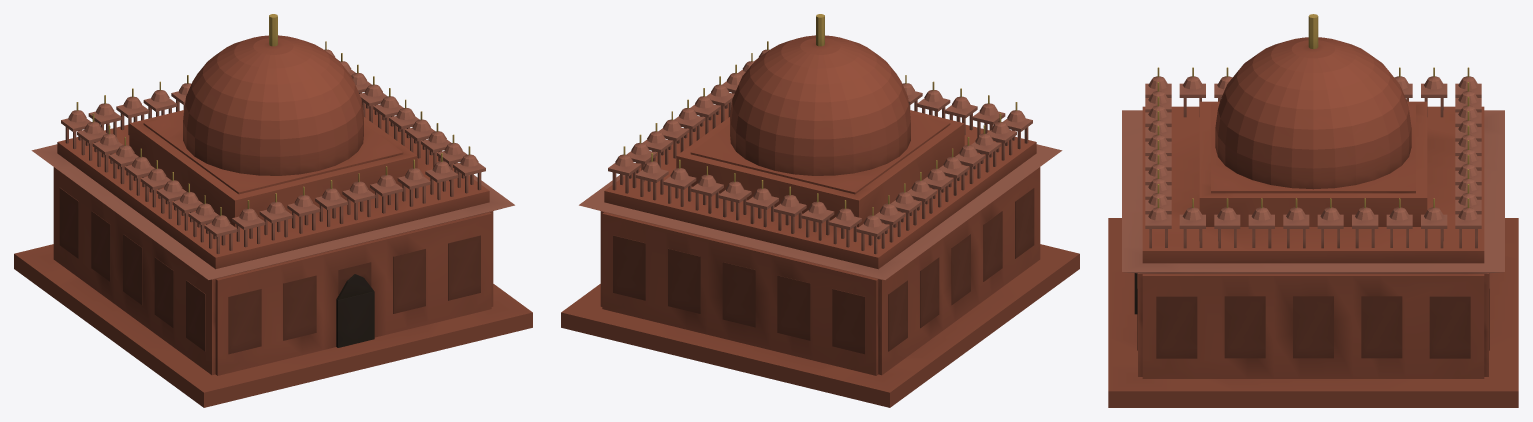
Rendered from islam-khan-tomb.glb.
3 views of the same model, side by side, from view 1: azimuth 30°, elevation 25°; view 2: azimuth 150°, elevation 25°; view 3: azimuth 270°, elevation 25° (orthographic). The views are drawn at different scales.
Parts seen in each view (by area): view 1: p1_verandah, p2_dome and chhatris, p0_plinth; view 2: p1_verandah, p2_dome and chhatris, p0_plinth; view 3: p1_verandah, p2_dome and chhatris, p0_plinth.
Part boxes in pixels (x1,y1,x2,y2): p1_verandah: (31, 104, 514, 375); p2_dome and chhatris: (61, 14, 485, 253); p0_plinth: (14, 244, 532, 407); p1_verandah: (579, 104, 1062, 375); p2_dome and chhatris: (608, 14, 1032, 254); p0_plinth: (561, 244, 1079, 407); p1_verandah: (1122, 101, 1504, 378); p2_dome and chhatris: (1145, 14, 1481, 248); p0_plinth: (1108, 218, 1518, 407).
Bounding box in the file's own units: 18 × 14.78 × 18.
